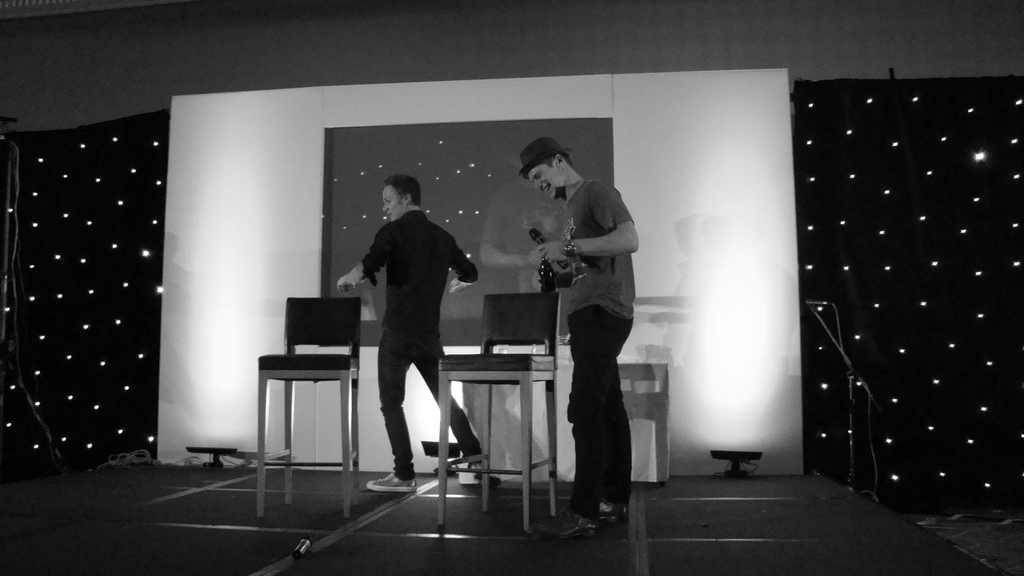Footwear: (523, 504, 599, 547), (365, 474, 418, 495), (589, 500, 625, 527), (464, 454, 485, 477)
